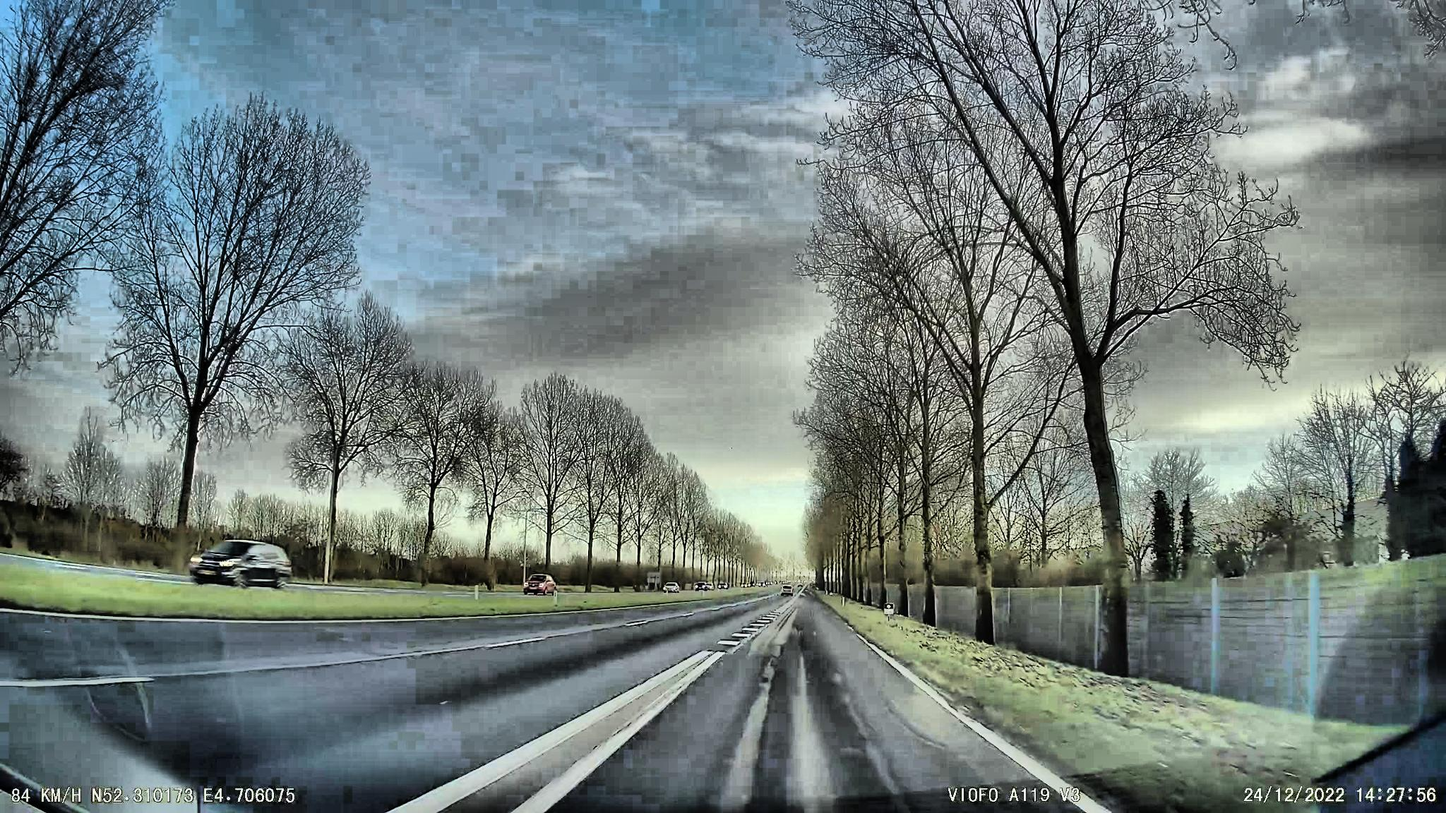Roads: (0, 592, 1086, 813)
